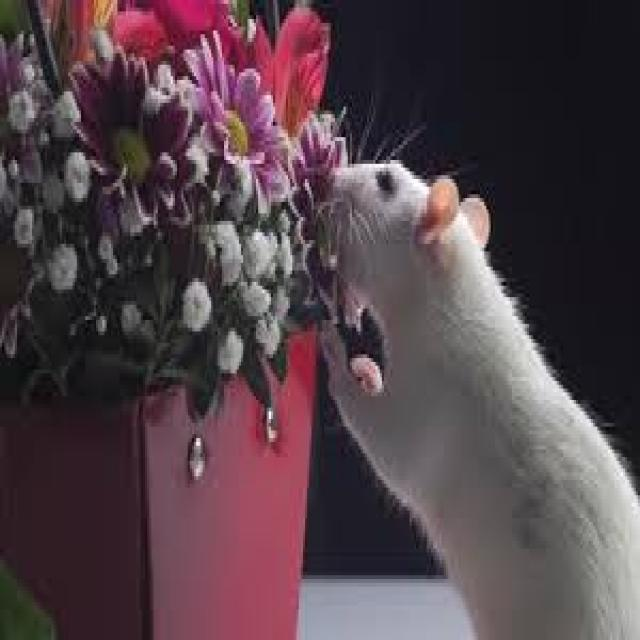Rat: (324, 118, 613, 630)
